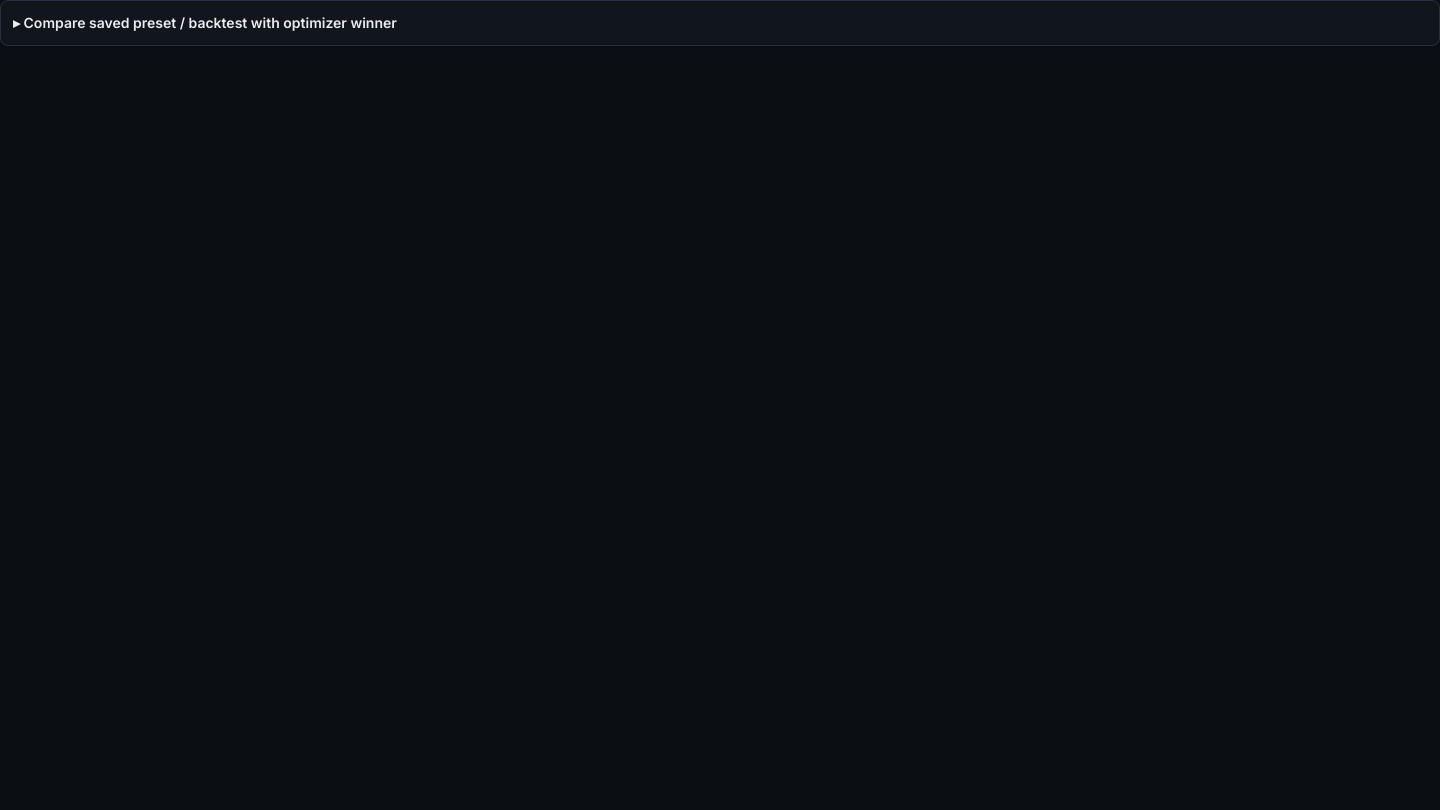
it: comparison loads on demand and displays effective unknown/difference evidence
This screenshot has width=1440, height=810.
Click the button "▸ Compare saved preset / backtest with optimizer winner".
click(208, 22)  # box left=1, top=1, right=1439, bottom=45
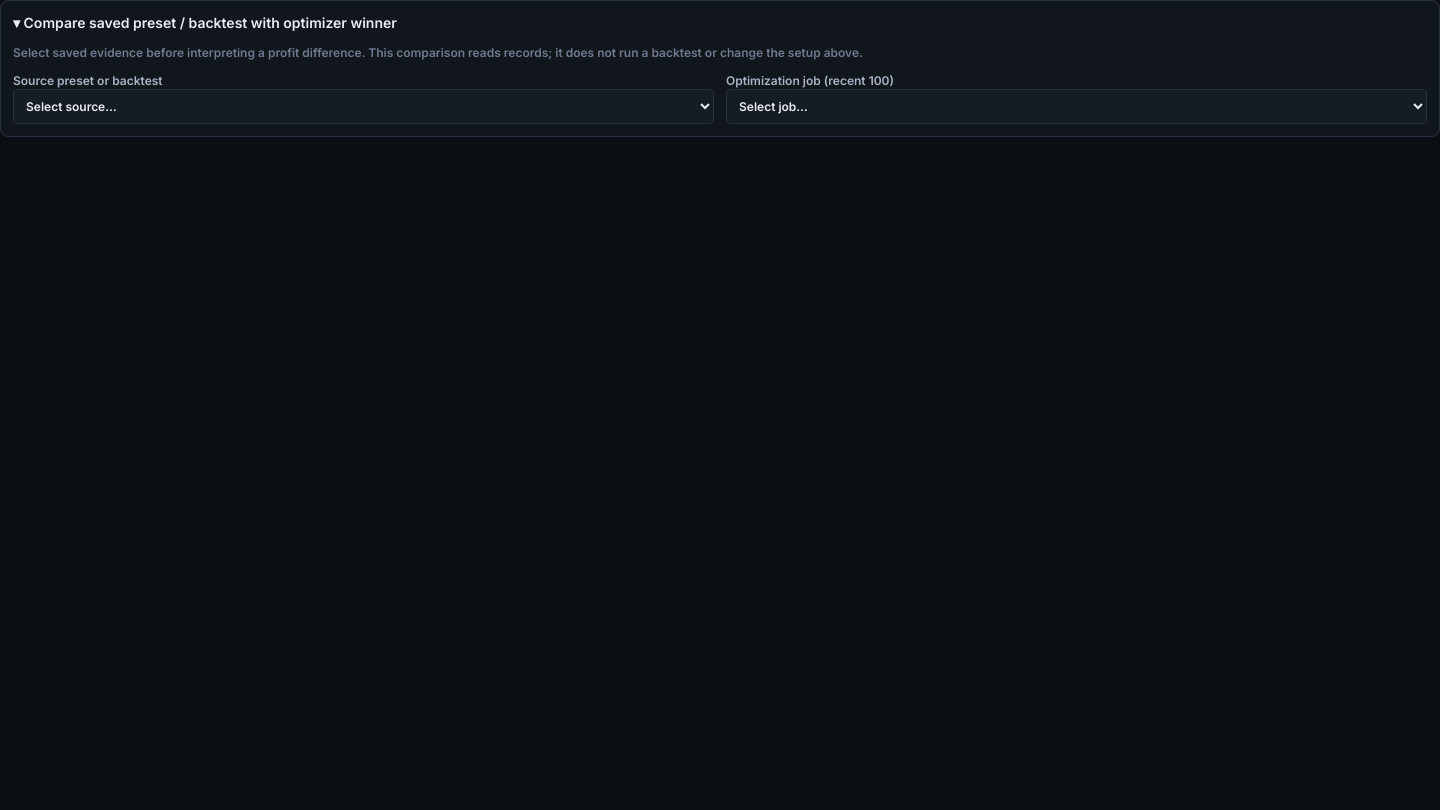
Select "first · first" in the dropdown labelled "Source preset or backtest" at (364, 106), box left=13, top=89, right=714, bottom=124
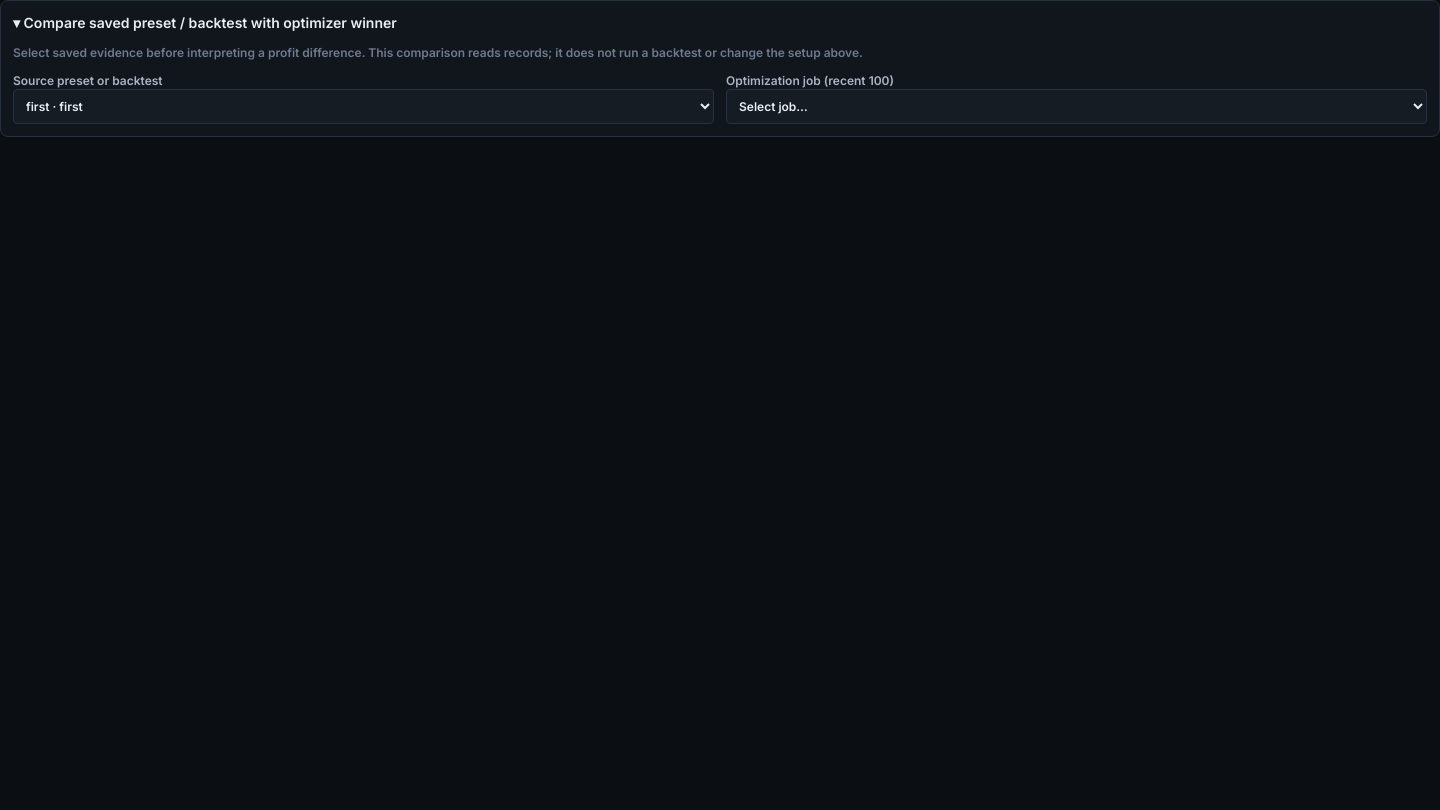
Select "Saved job · done · job" in the dropdown labelled "Optimization job (recent 100)" at (1076, 106), box left=726, top=89, right=1427, bottom=124
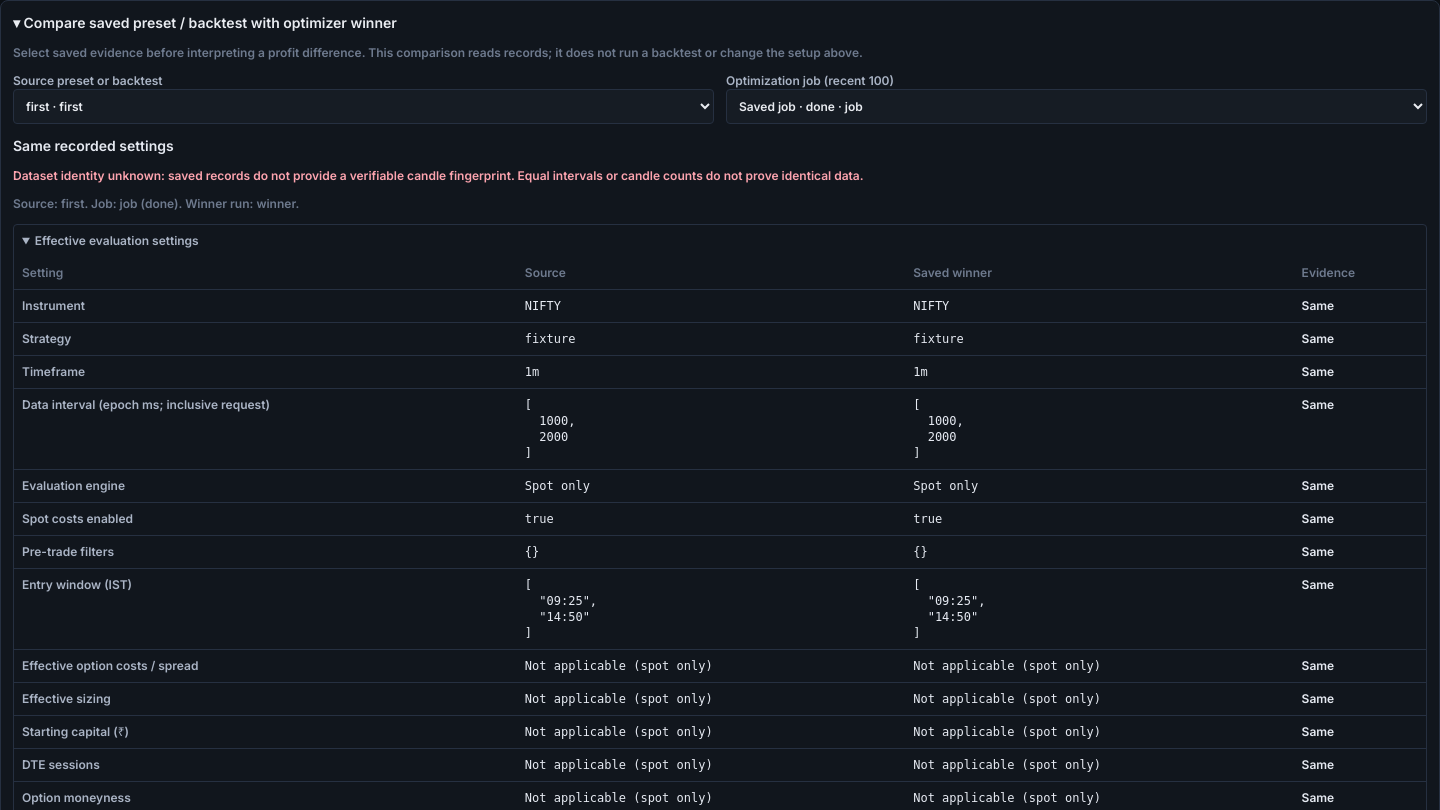
Now the text with test id "research-comparison-status" reads "Same recorded settings", box left=13, top=137, right=174, bottom=154
Now the text "Dataset identity unknown" is shown, box left=13, top=168, right=864, bottom=183
